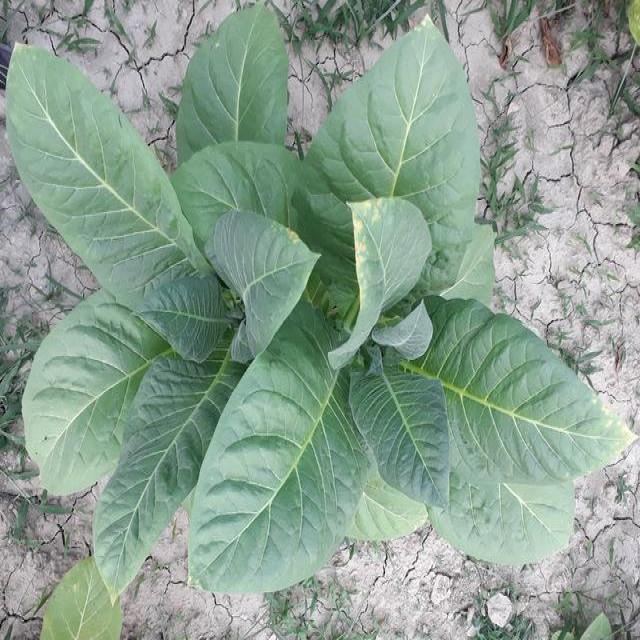crop: (0, 35, 632, 579)
